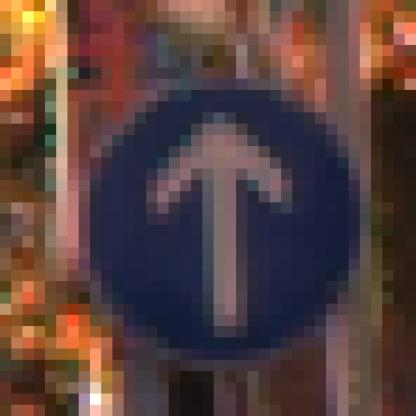AheadOnly: (68, 57, 361, 350)
